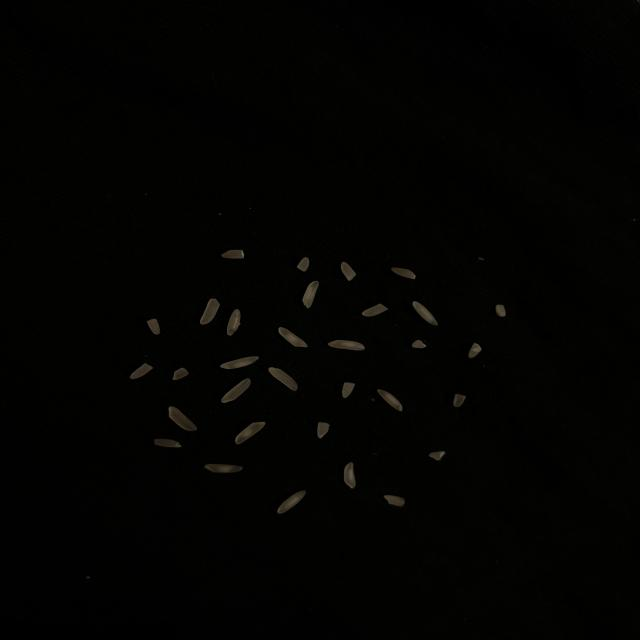Broken: (130, 363, 154, 379), (361, 304, 388, 317), (392, 268, 416, 280), (383, 494, 405, 507), (219, 249, 245, 259), (172, 367, 189, 382), (342, 262, 356, 280), (467, 342, 482, 358), (341, 382, 354, 399), (148, 318, 160, 336), (318, 422, 330, 438), (453, 394, 466, 408), (298, 257, 310, 272), (428, 451, 444, 461), (495, 304, 507, 317), (412, 340, 426, 348)
Full: (222, 378, 252, 404), (167, 405, 197, 431), (268, 367, 299, 391), (235, 421, 266, 445), (277, 491, 306, 514), (413, 301, 438, 327), (279, 327, 308, 347), (199, 299, 221, 324), (378, 390, 403, 412), (220, 356, 259, 370), (328, 339, 364, 352), (302, 281, 319, 308), (343, 461, 357, 489), (227, 309, 242, 335), (205, 463, 242, 473), (153, 438, 181, 447)
